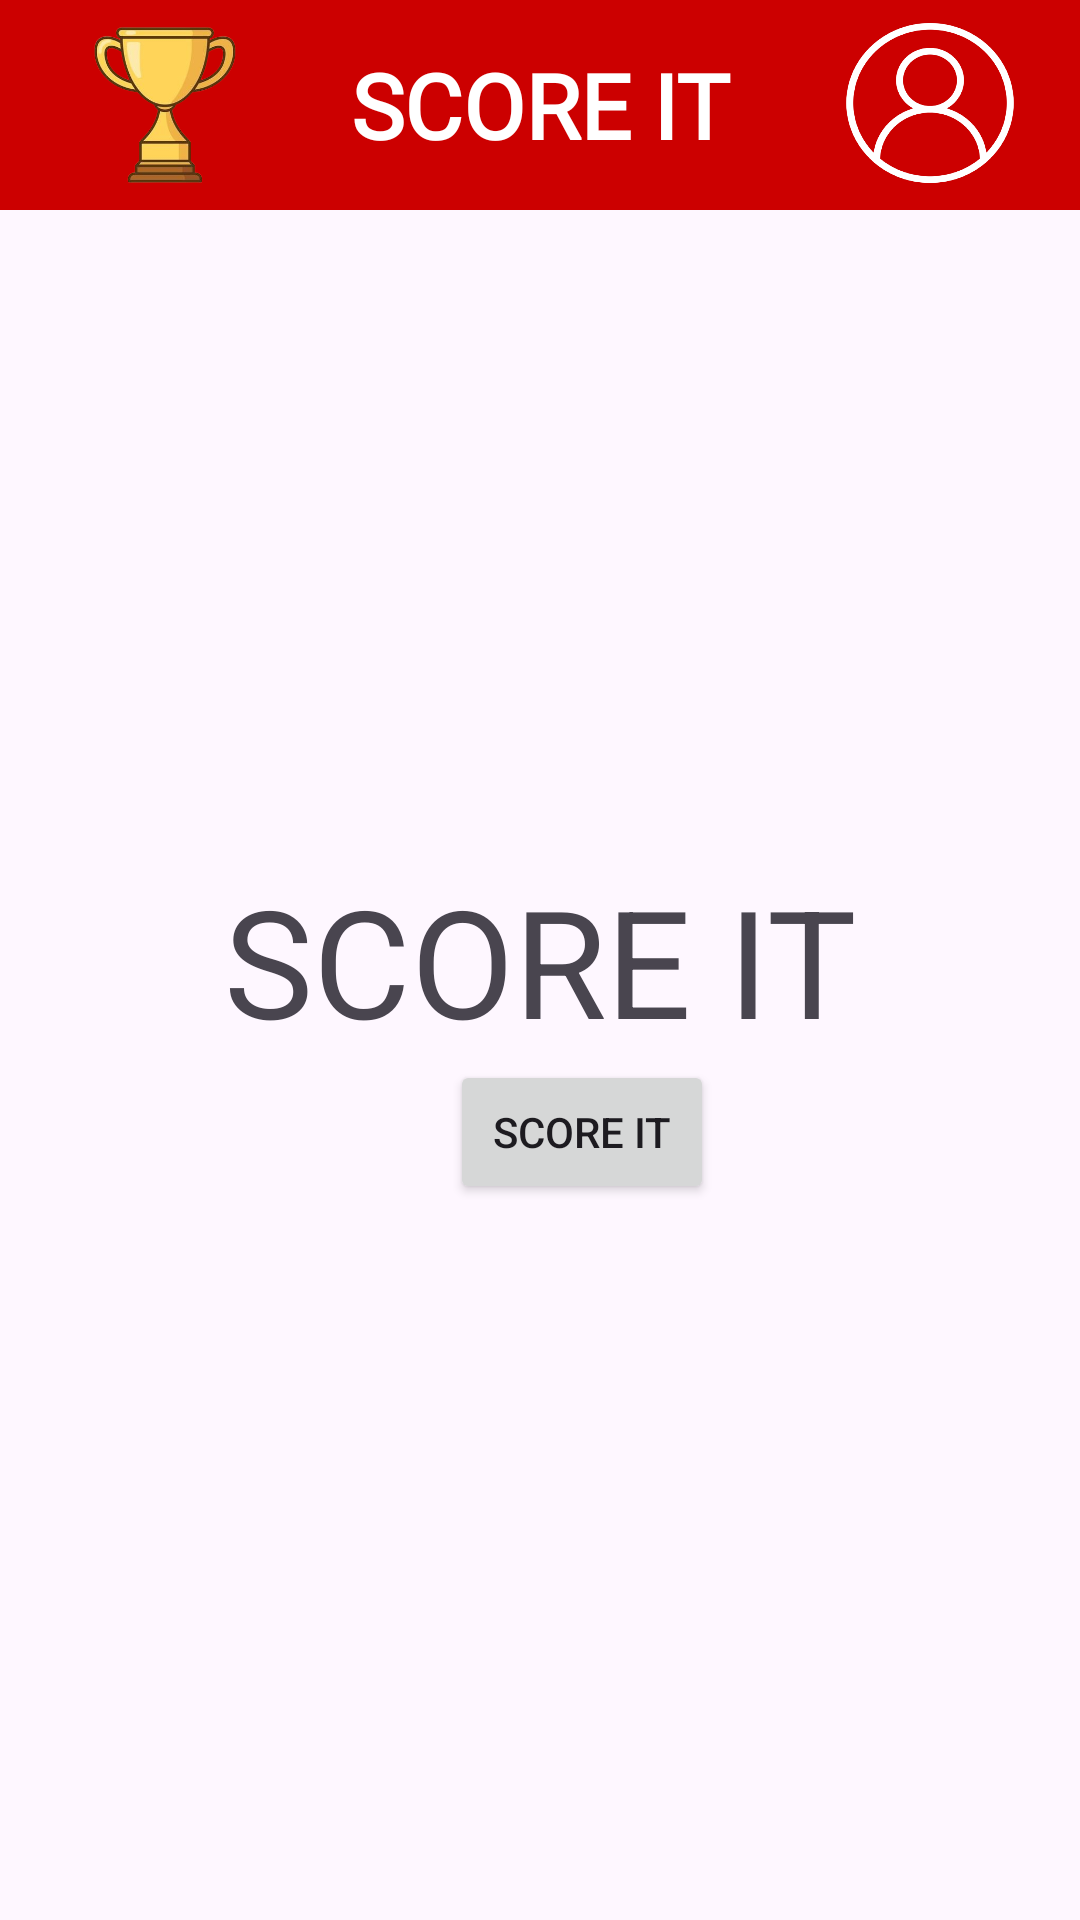

Where icons sit on this 1080px×1920px app screen, as (x1, y1, x2, y2):
user: (846, 23, 1014, 183)
